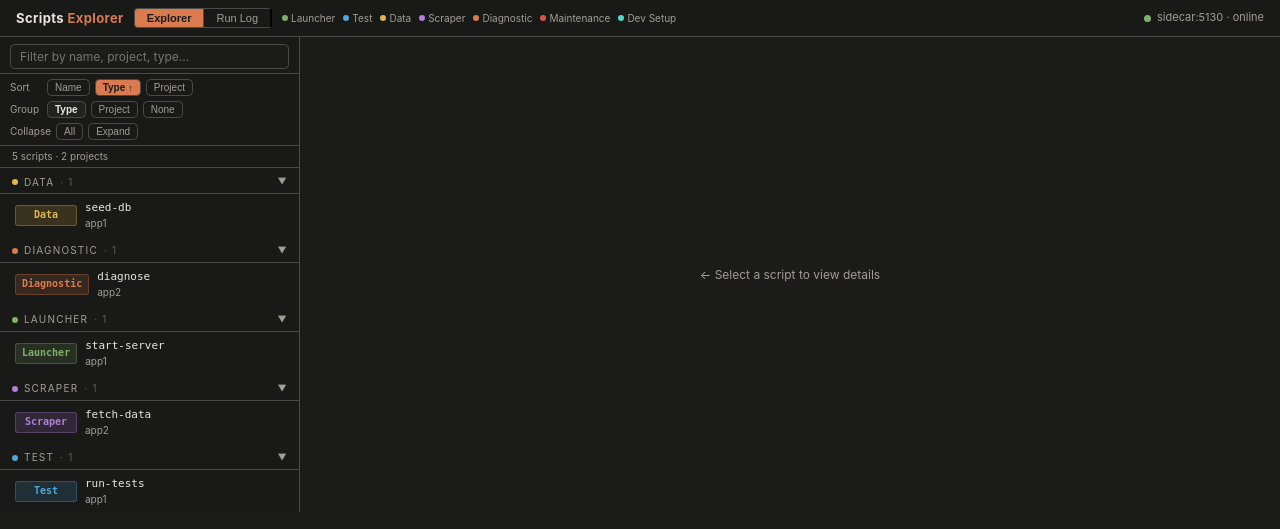
Test case: ScriptsExplorer Integration Tests › Script Search/Filter Workflow › should clear filter and show all scripts
Type "start" into the field with placeholder "Filter by name, project, type…" at (150, 56), box [10,44,289,69]
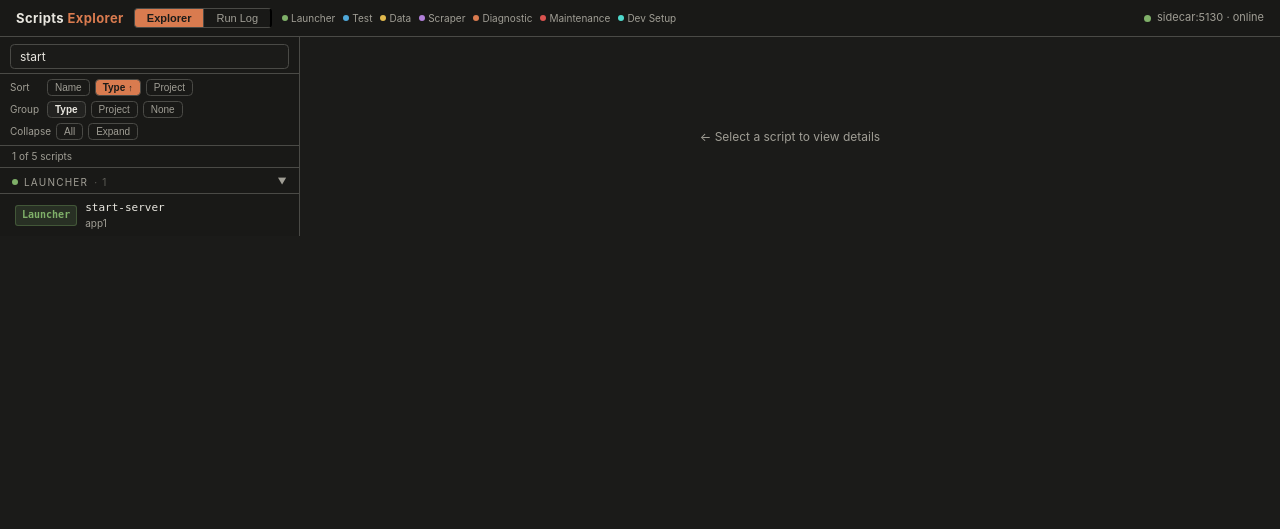
Expected: the button with test id "script-item" is shown, [15,201,165,229]
Clear the field with placeholder "Filter by name, project, type…" at (150, 56), box [10,44,289,69]
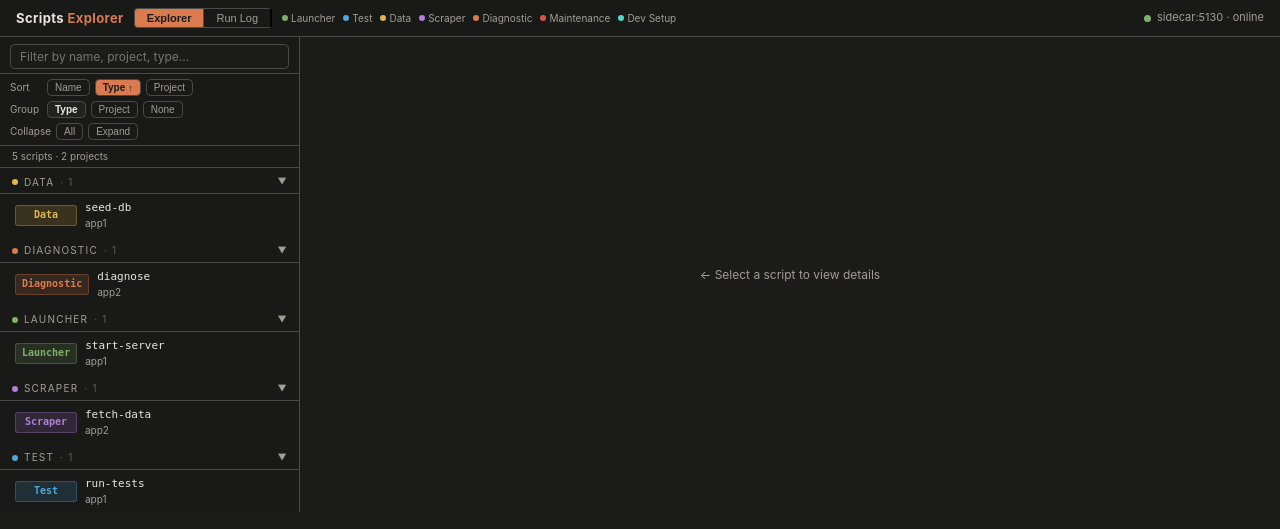
Expected: the button with test id "script-item" showing "Data seed-db app1" is shown, [15,201,131,229]
